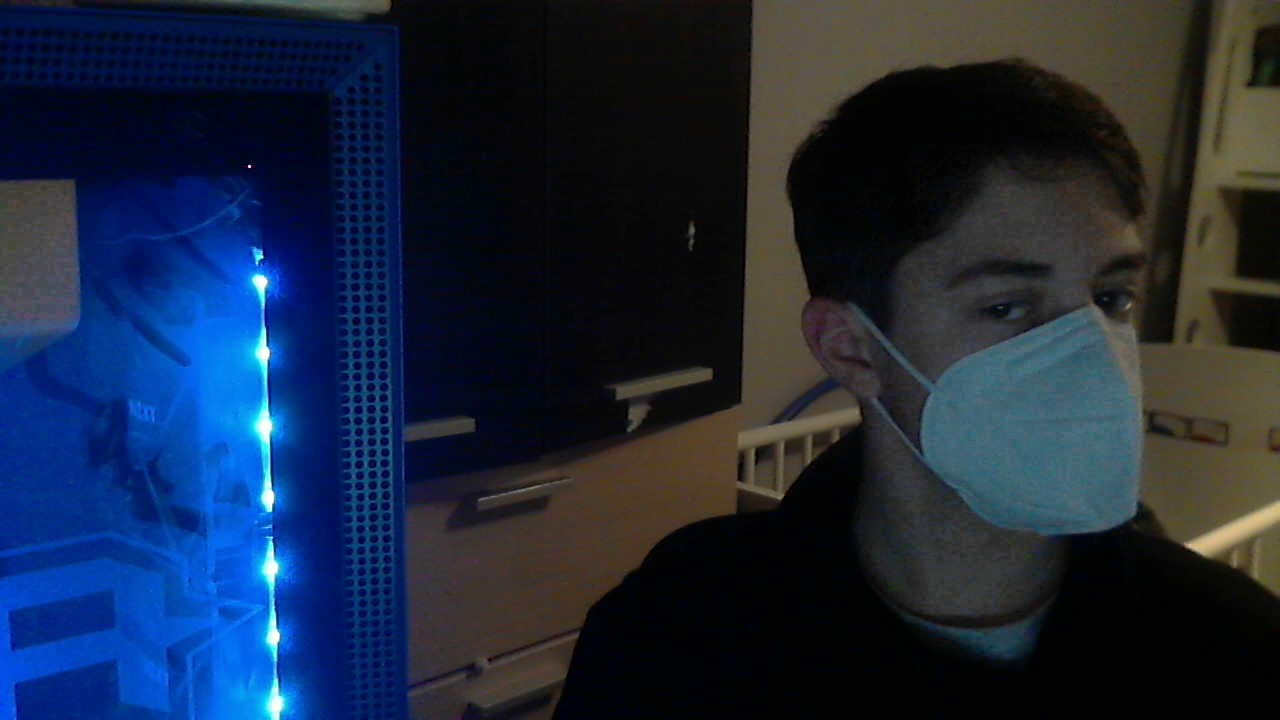Mask: (799, 295, 1147, 550)
